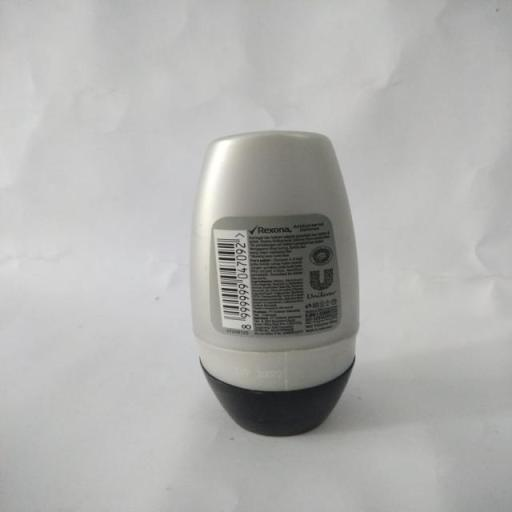plastic: (191, 126, 363, 440)
